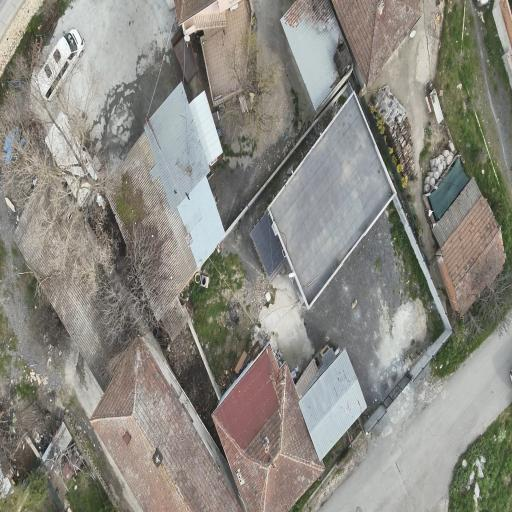car: (36, 29, 83, 100), (476, 0, 489, 6)
